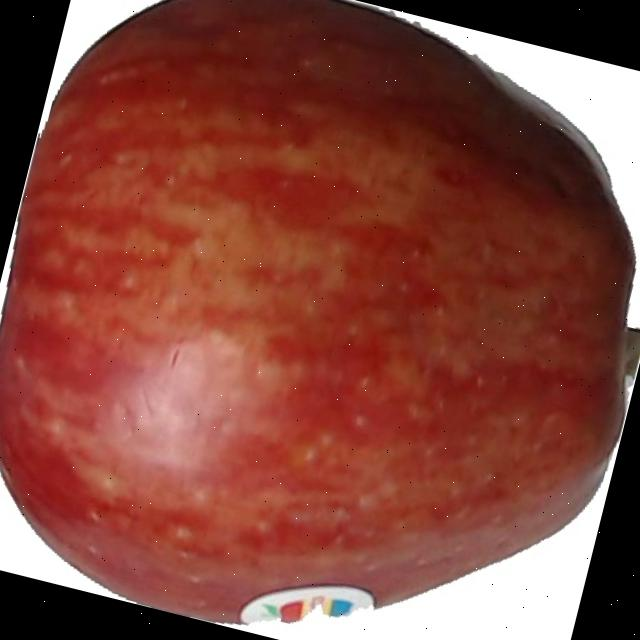apple: (0, 0, 640, 627)
